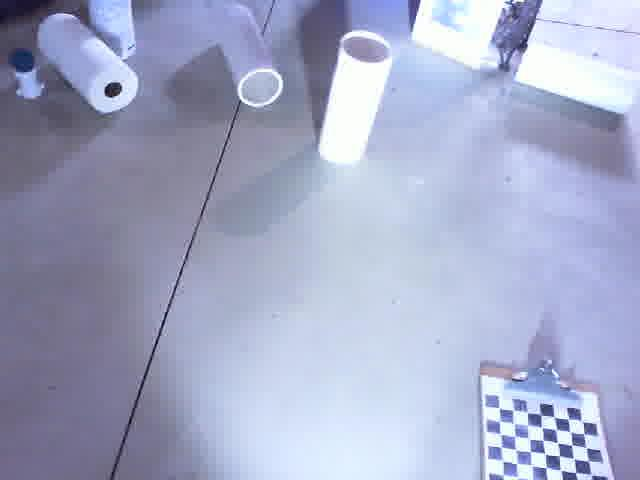coral: (37, 13, 140, 115), (321, 30, 392, 164), (213, 5, 283, 110)
